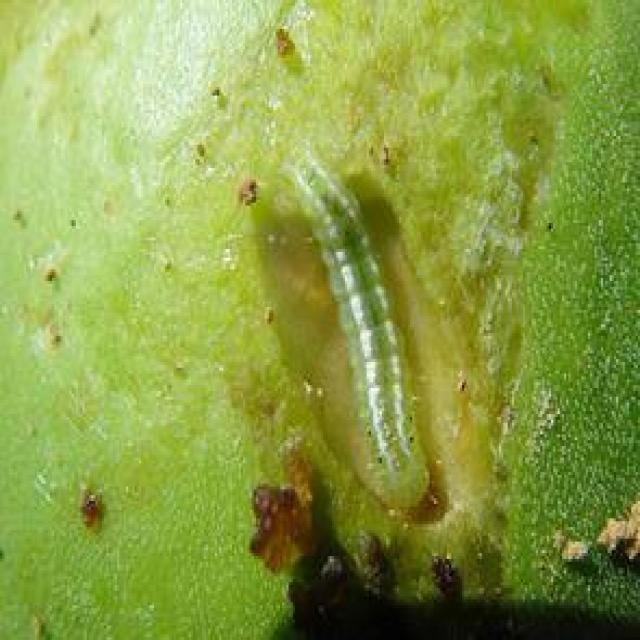BeetArmyWorm-Larva-: (277, 140, 437, 516)
